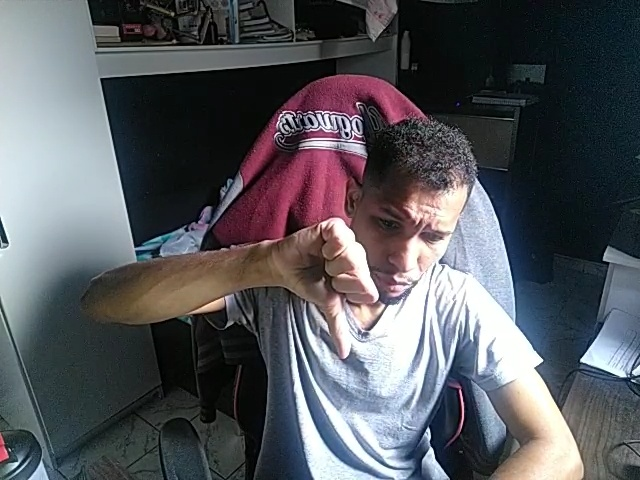não: (268, 206, 383, 364)
